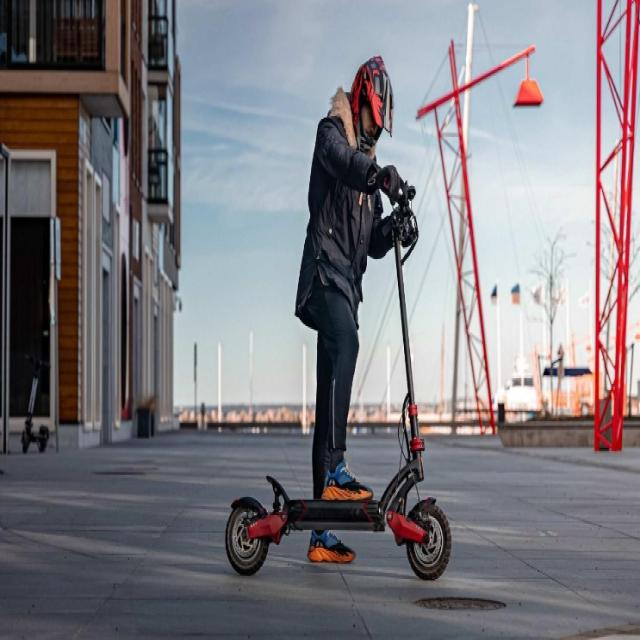helmet: (212, 29, 500, 607)
